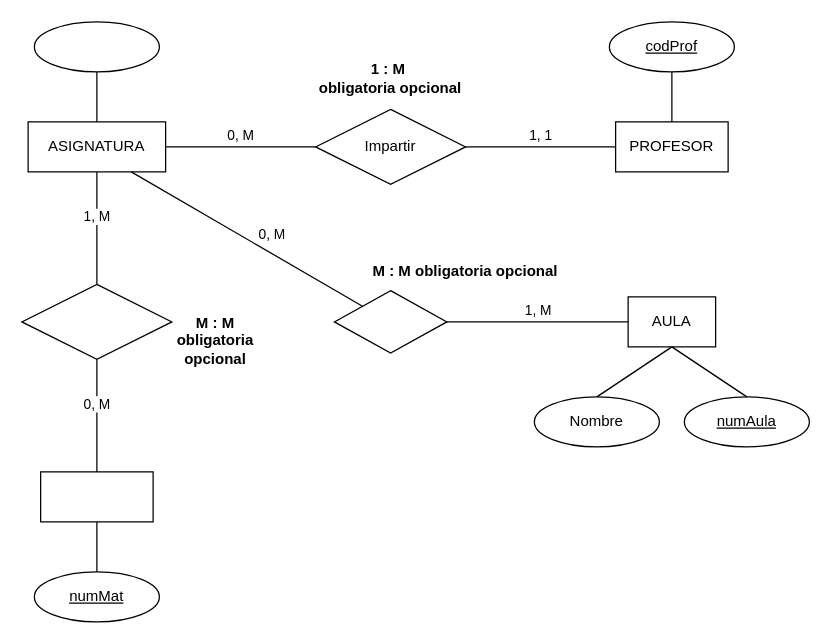
This 831x644 diagram has some shape labels left out. The centre of each missing label's shape, as x and y in pixels:
"ALUMNOS" belongs at point 96,496.
"Asignar" belongs at point 390,321.
"codAsig" belongs at point 96,46.
"Matricular" belongs at point 96,321.
